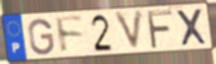2: (90, 13, 114, 53)
F: (53, 15, 86, 56), (146, 9, 175, 51)
G: (28, 18, 56, 57)
V: (112, 9, 146, 53)
X: (175, 7, 210, 48)
